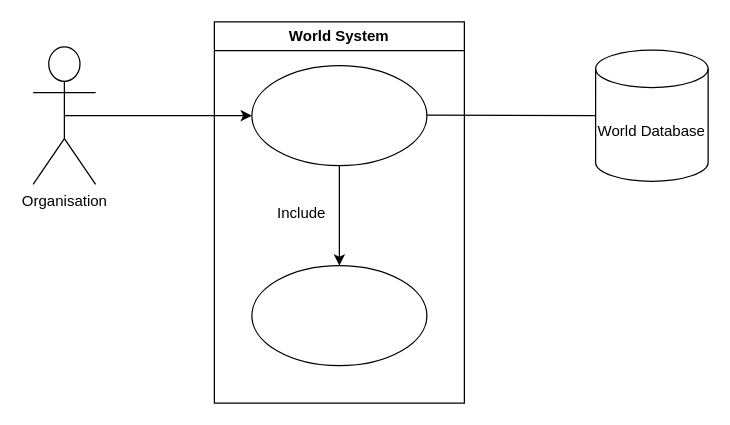
Some shapes in this 730 by 425 pixel diagram are drawn without their labels. The shapes that lost their labels are listed below. From the top down, each one's centre as x and y in pixels, then its label:
pixel 339 115: Generate Reports
pixel 339 315: Print Reports
